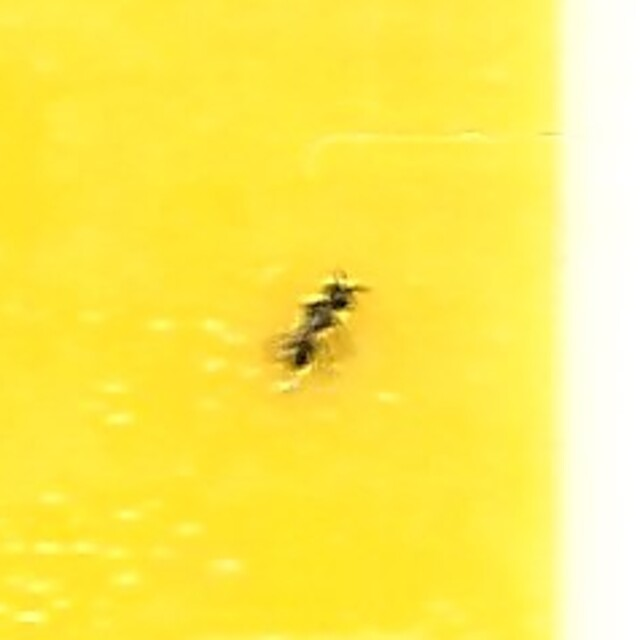Hymenoptera: (269, 260, 371, 380)
